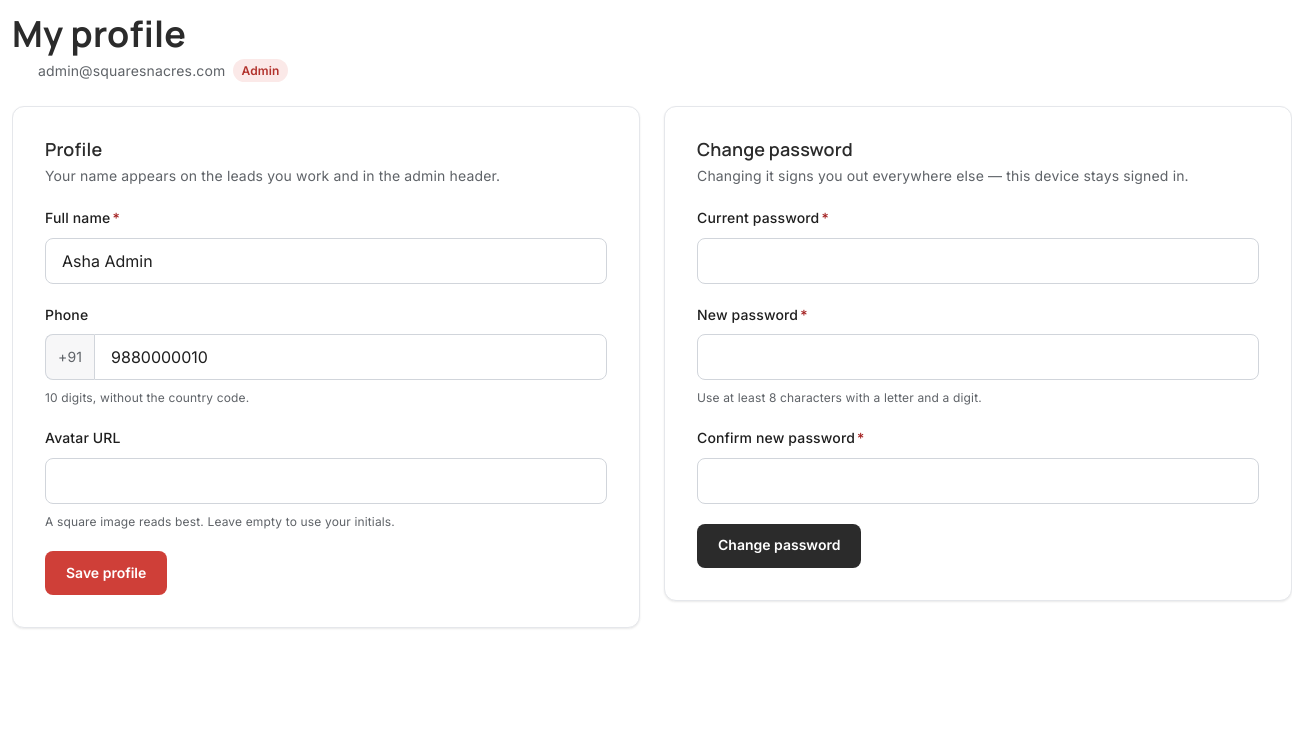
ProfilePage — the phone number (QA-61) › refuses what is not a mobile number before asking the API (QA-65)
The width and height of the screenshot is (1292, 732).
Replace the text in the field labelled "Phone" with "98450 1234": (351, 357) top-left (94, 334), bottom-right (607, 380)
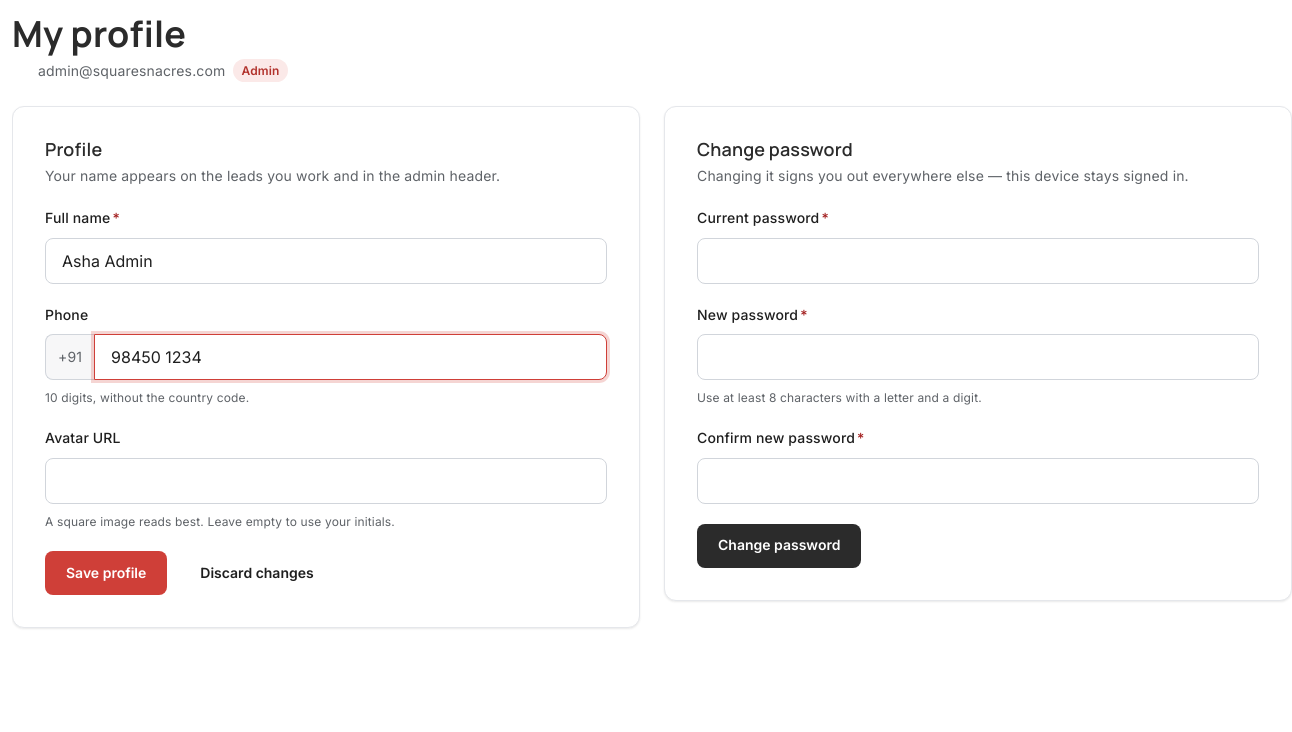
Click the button "Save profile": (106, 573) top-left (45, 551), bottom-right (167, 595)
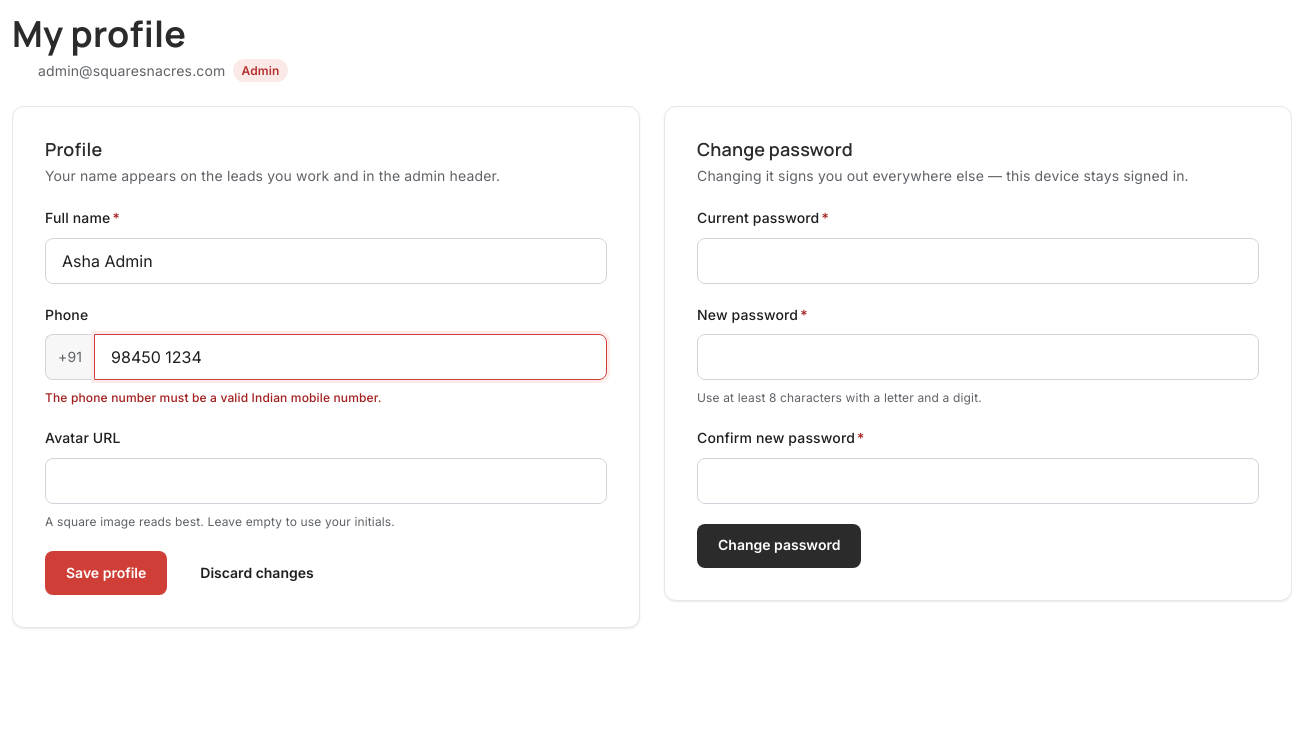
Check: the text "The phone number must be a valid Indian mobile number." is shown, box top-left (45, 390), bottom-right (382, 405)
